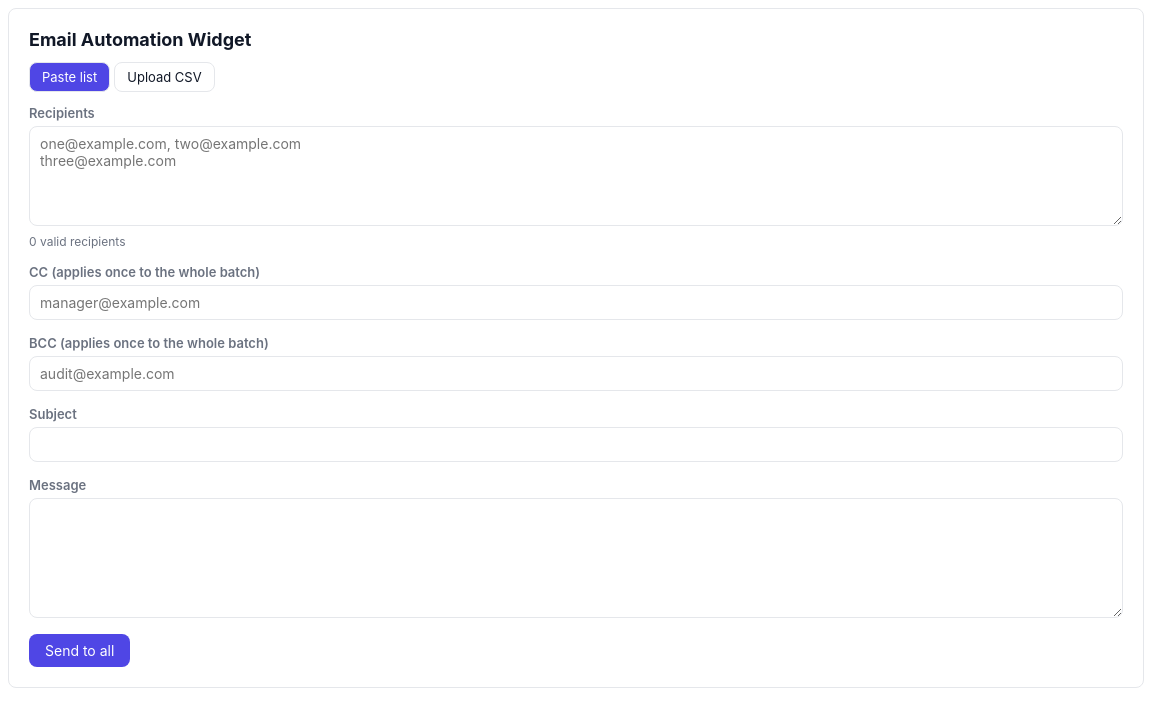
Scenario: EmailAutomationWidget (bulk mode) › recipient source toggle: paste vs CSV › switches to the CSV file input when the Upload CSV tab is clicked, hiding the textarea
This screenshot has width=1152, height=720.
Click the tab "Upload CSV" at [164, 77], box [114, 62, 215, 92]
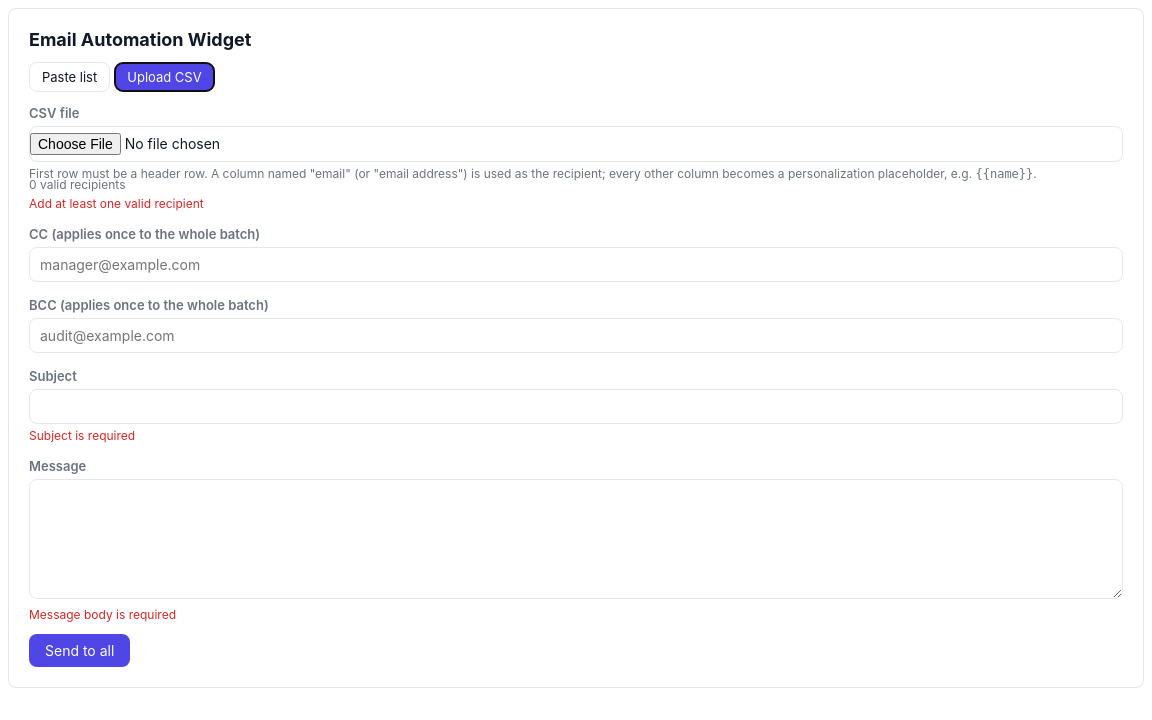
Now the file field labelled "CSV file" is shown, box [29, 126, 1123, 162]
